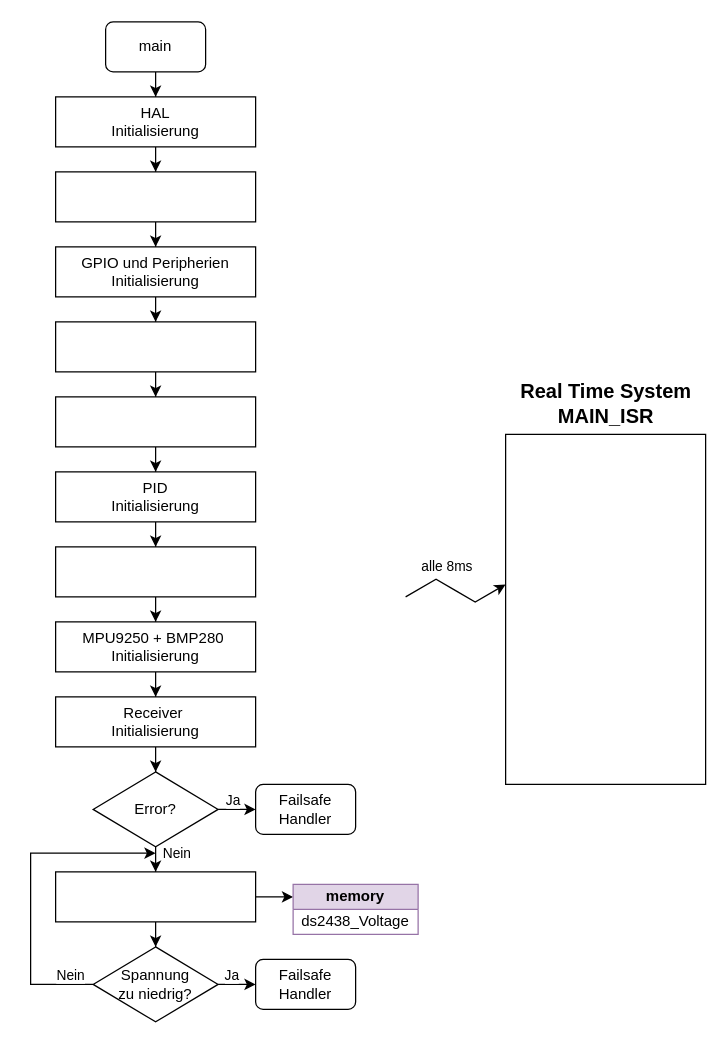
Image size: 728x1044. Some labels were removed from this diagram. The shapes that lost their labels are listed below. From the top down, each one's centre as x and y in pixels, then its label:
At point (155, 196): "Takt Initialisierung".
At point (155, 346): "Datenübertragung Initialisierung".
At point (155, 421): "DS2438 Initialisierung".
At point (155, 571): "DShot Initialisierung".
At point (605, 608): "Update System Control".
At point (155, 896): "Akkuspannung einlesen".
